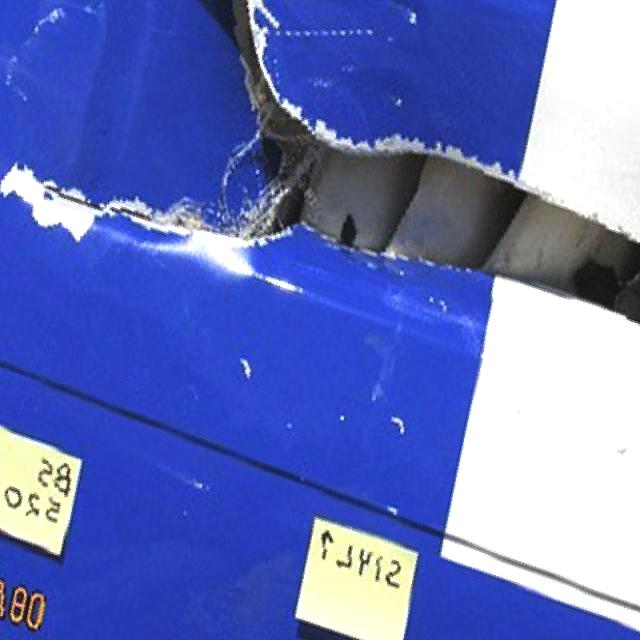crack: (29, 174, 232, 292)
